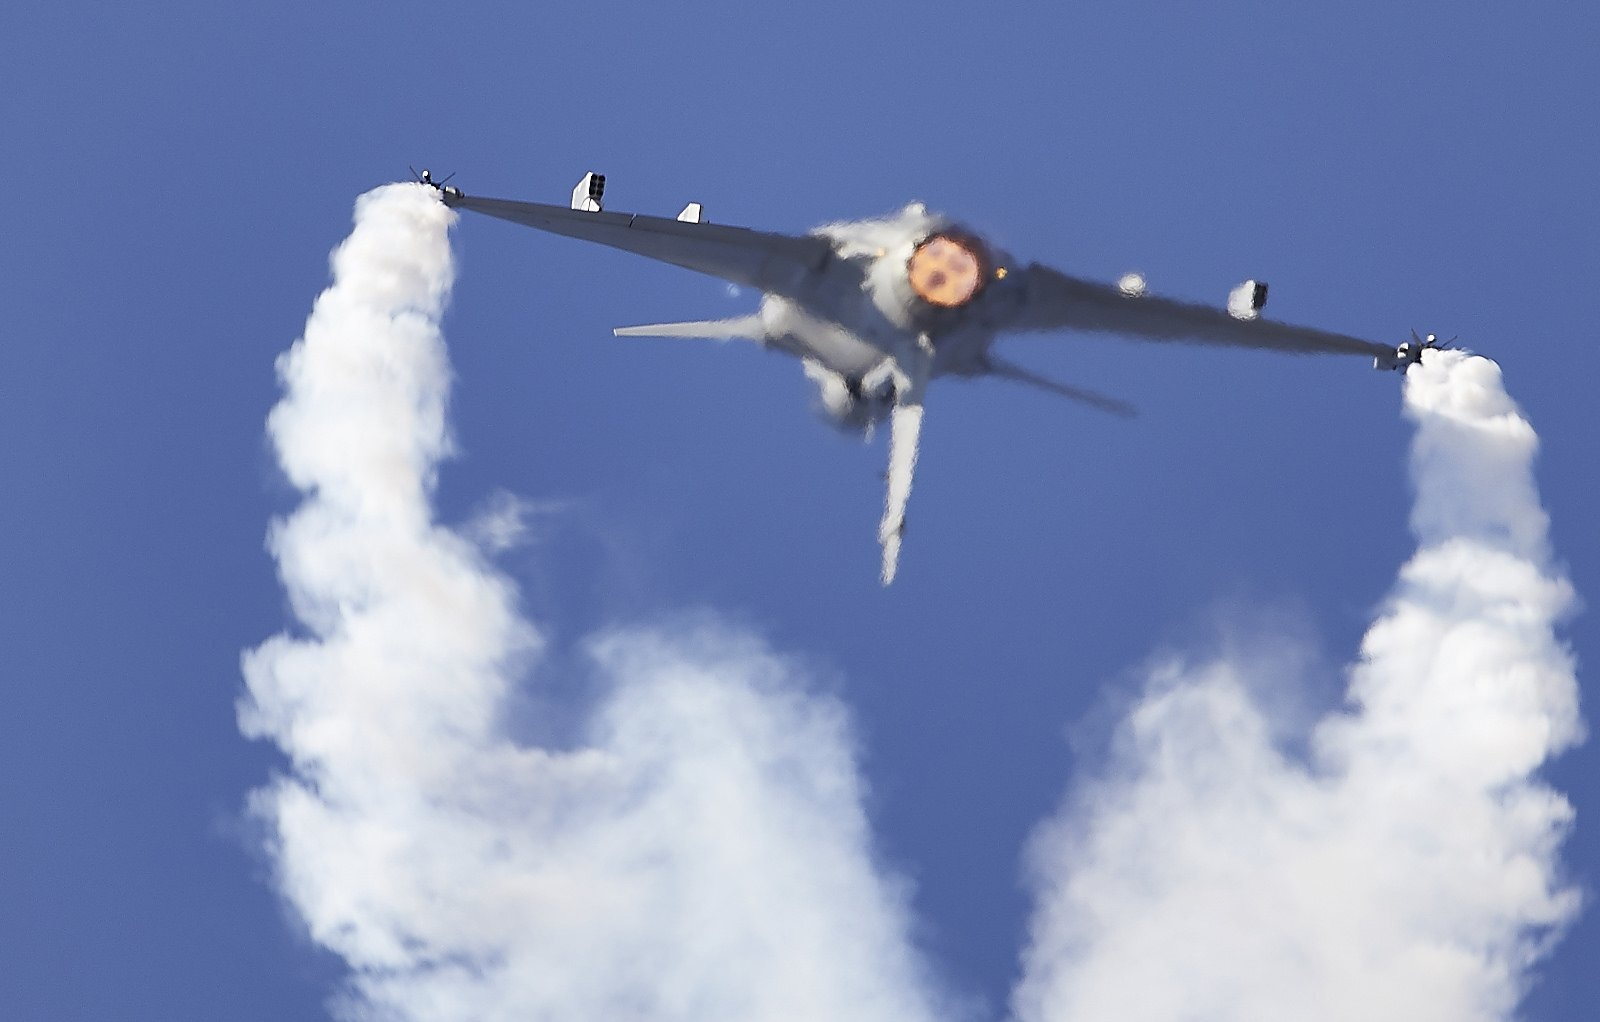JAS39: (408, 164, 1461, 586)
